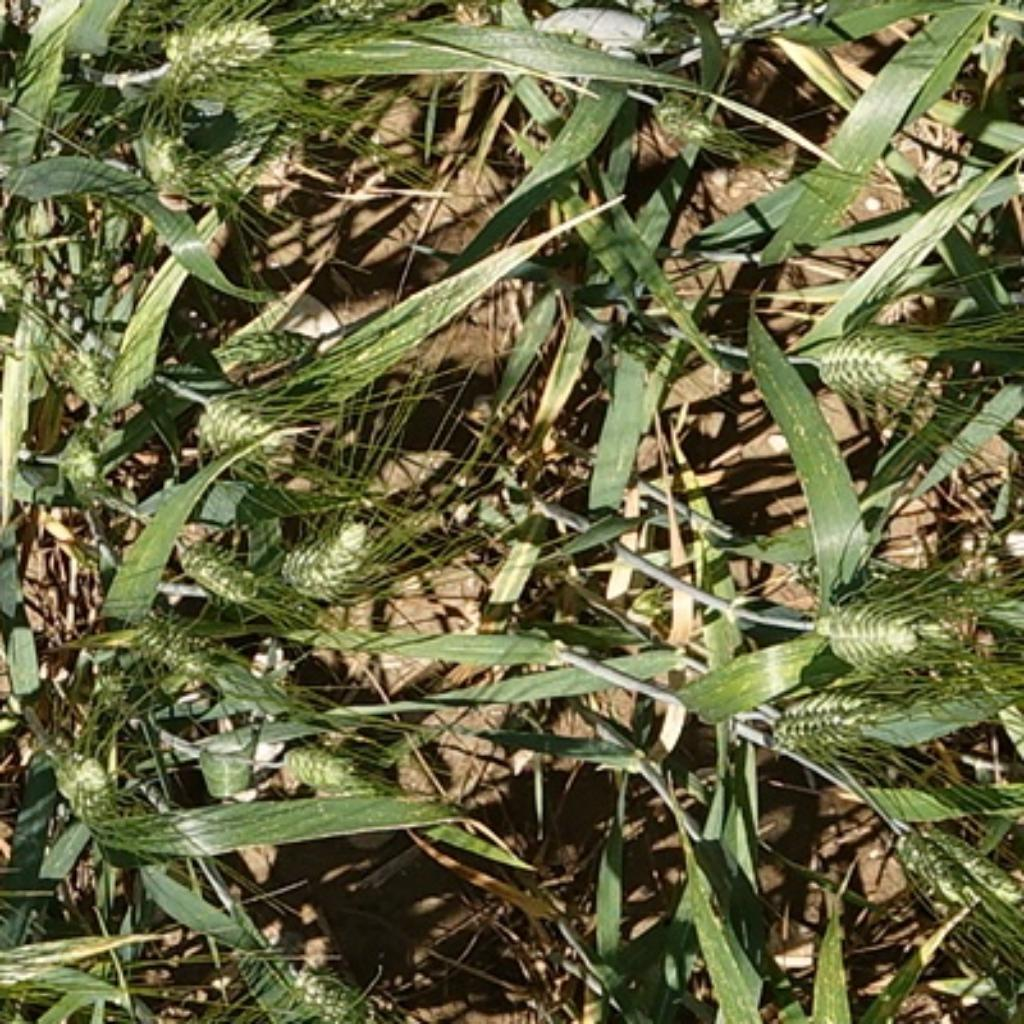0-0: (801, 588, 990, 665), (145, 2, 281, 99), (186, 381, 304, 476), (212, 302, 340, 389), (273, 506, 386, 599), (802, 320, 930, 401), (885, 819, 983, 921), (921, 816, 1024, 911), (765, 678, 888, 755), (30, 721, 125, 819), (38, 332, 143, 419), (168, 517, 268, 604), (117, 601, 222, 683), (273, 960, 407, 1024), (125, 115, 225, 199), (279, 734, 389, 808), (40, 412, 117, 504), (647, 81, 729, 151), (711, 0, 793, 35), (306, 3, 411, 24)
